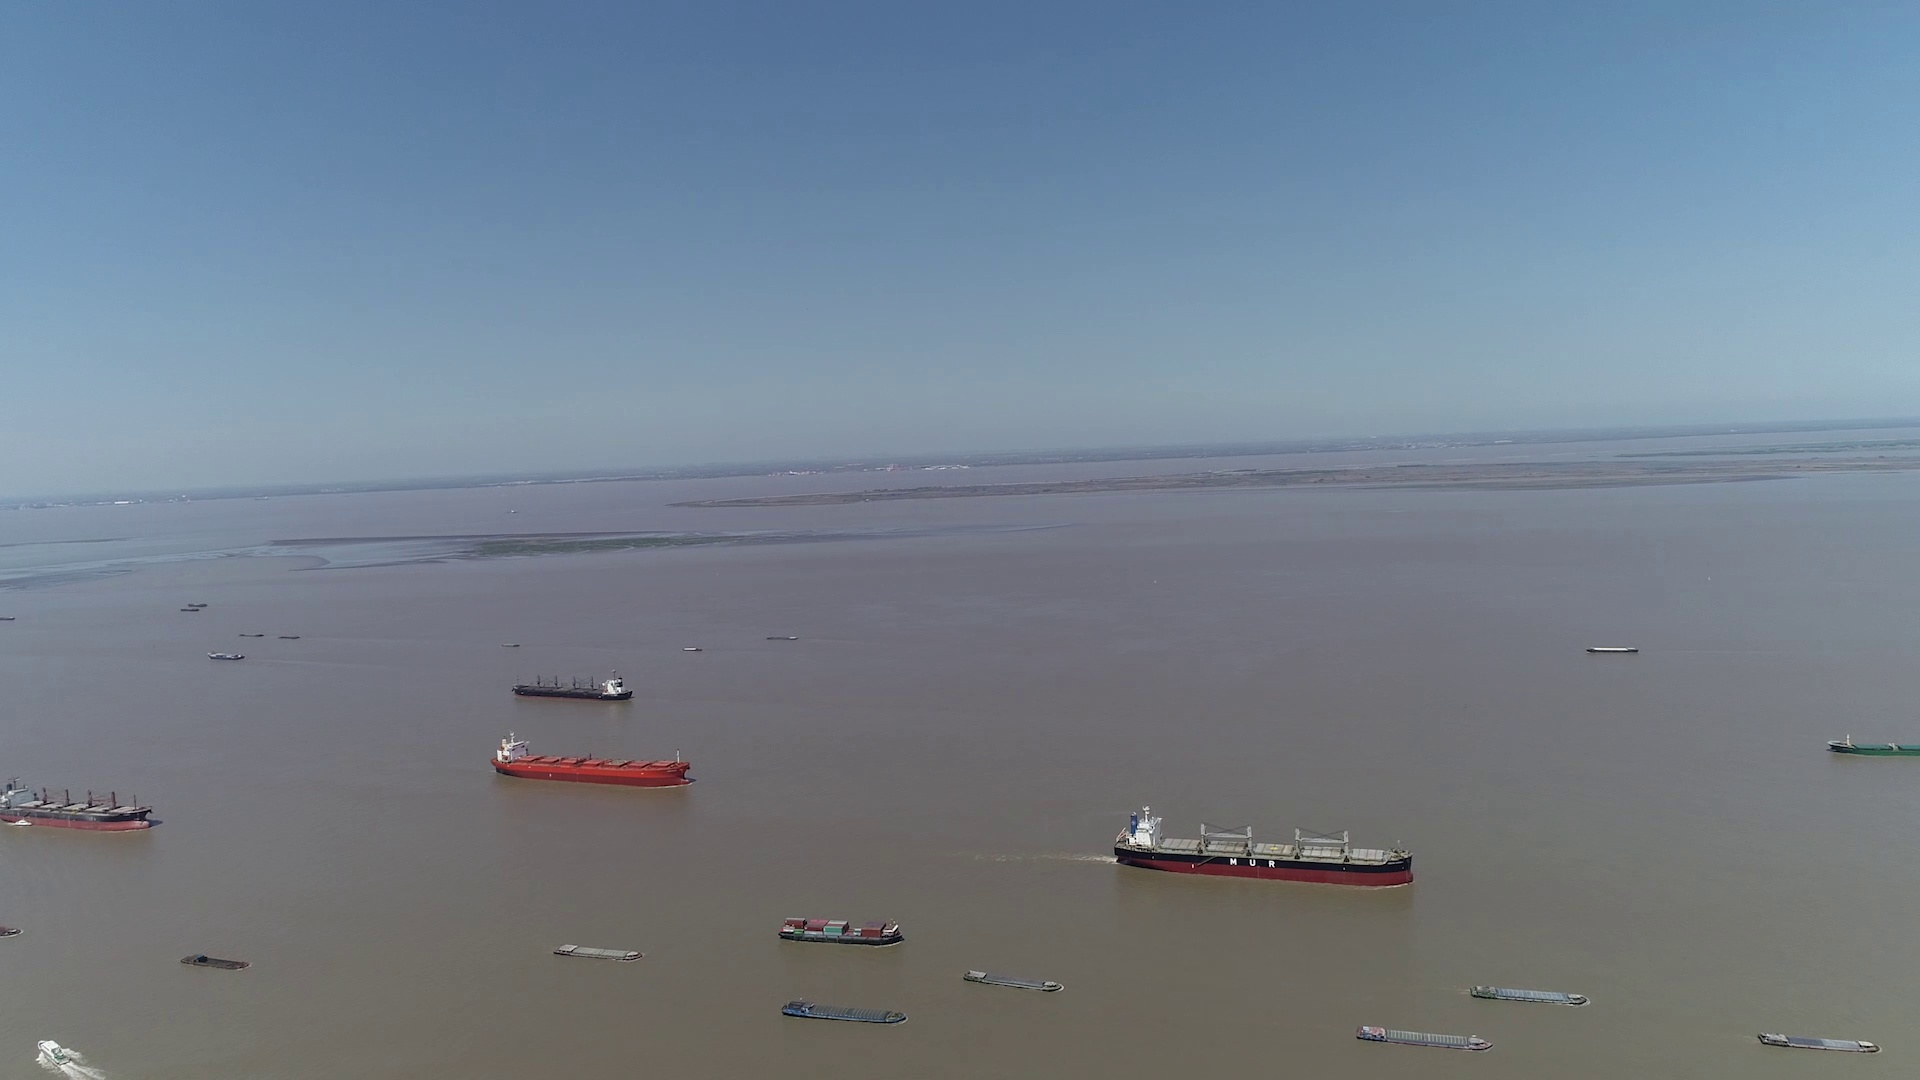ship: (1114, 804, 1418, 887), (491, 731, 691, 787), (0, 773, 156, 833), (777, 916, 905, 947), (512, 670, 632, 700), (1357, 1025, 1493, 1051), (781, 1000, 909, 1025), (1756, 1030, 1880, 1054), (1470, 982, 1589, 1005), (963, 969, 1064, 992), (1826, 737, 1919, 758), (554, 942, 645, 961), (36, 1042, 82, 1071), (179, 953, 251, 971), (1588, 646, 1636, 654), (208, 650, 247, 659), (0, 922, 21, 938), (0, 613, 13, 622)
